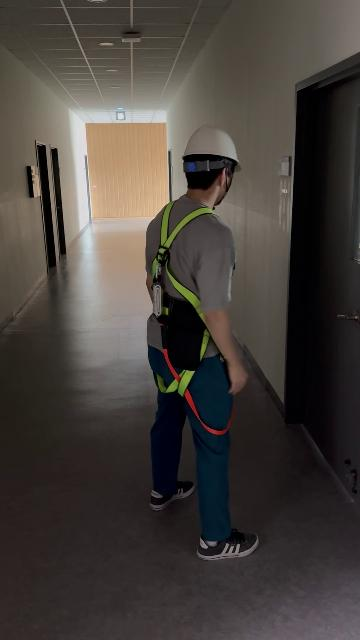helmet_worn: (181, 124, 244, 168)
shoe_not_worn: (196, 528, 258, 561), (150, 479, 194, 510)
vest_worn: (148, 197, 236, 424)
